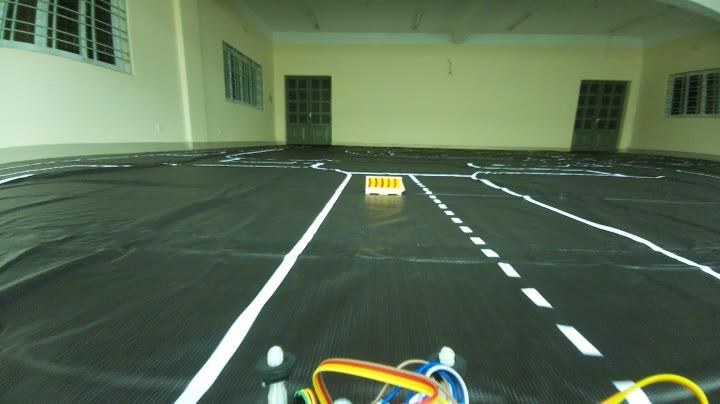roadblock: (358, 170, 405, 202)
